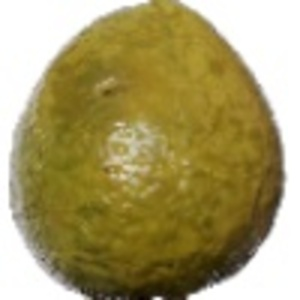goiaba: (10, 6, 285, 292)
